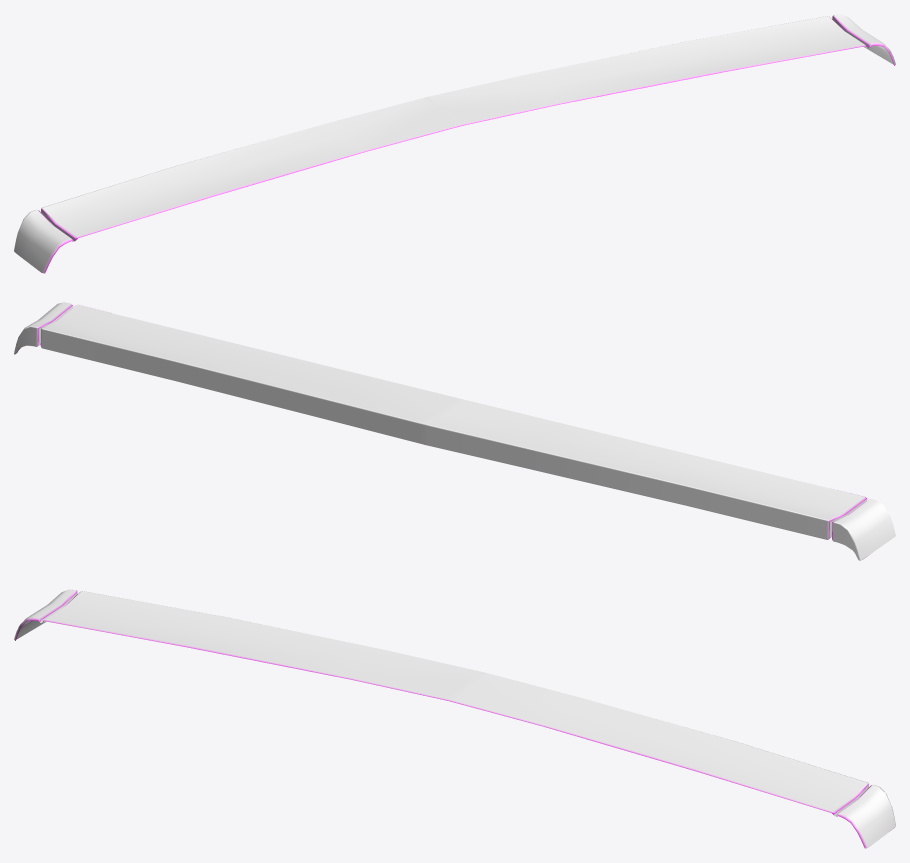
File: Car_Buick_GrandNational_1987_Spoiler_SetA.fbx
3 views of the same model, one above another, from view 1: azimuth 30°, elevation 25°; view 2: azimuth 150°, elevation 25°; view 3: azimuth 330°, elevation 25° (orthographic).
Visible parts, largest first — view 1: Spoiler 6; view 2: Spoiler 6; view 3: Spoiler 6.
Part boxes in pixels (box(x1,y1,x2,y2)): Spoiler 6: box(14, 14, 895, 273); Spoiler 6: box(14, 302, 895, 560); Spoiler 6: box(14, 589, 895, 848).
Size of the model in its own units: 1.65 by 0.0787 by 0.158.
